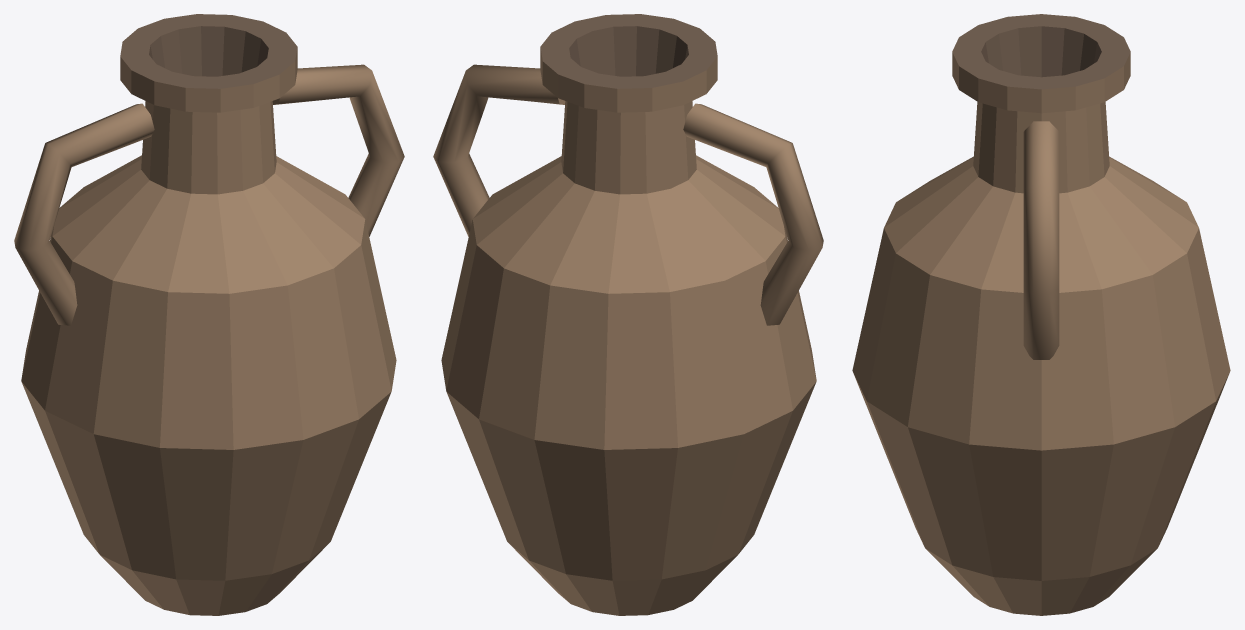
Rendered from amphora.glb.
The picture shows the model from 3 angles, left to right: view 1: azimuth 30°, elevation 25°; view 2: azimuth 150°, elevation 25°; view 3: azimuth 270°, elevation 25°; orthographic projection.
Parts seen in each view (by area): view 1: amphora; view 2: amphora; view 3: amphora.
Part boxes in pixels (bbox=[...]): amphora: bbox=[14, 14, 404, 615]; amphora: bbox=[433, 14, 823, 615]; amphora: bbox=[852, 14, 1230, 615].
Size of the model in its own units: 0.8463 by 1.12 by 0.72.
